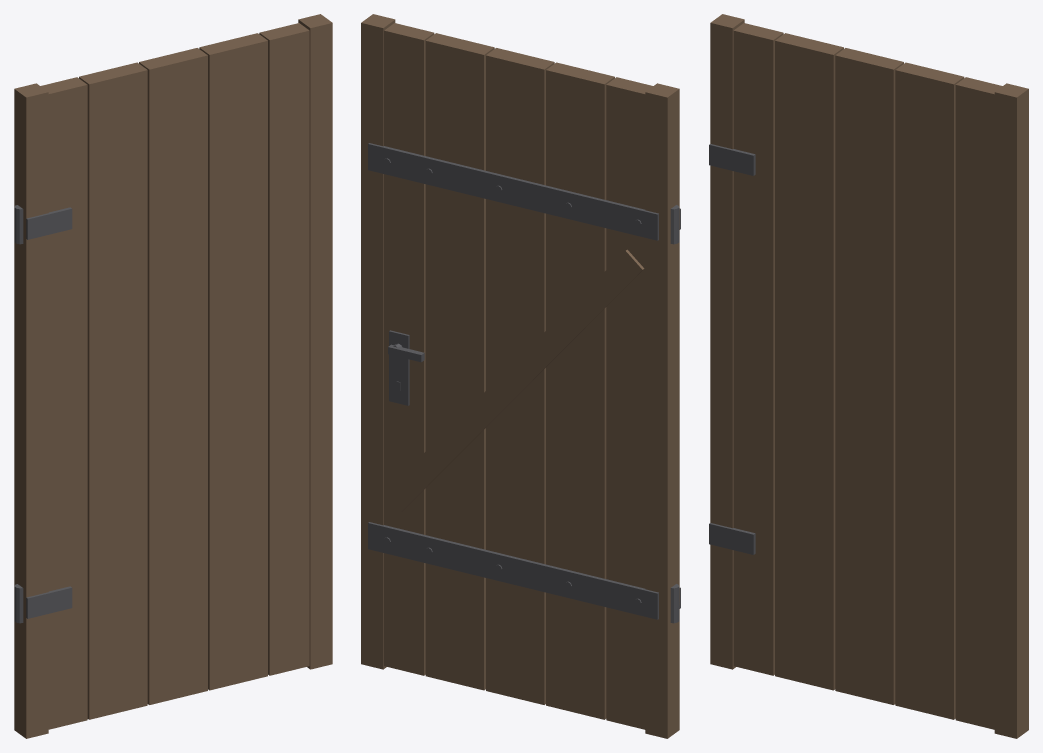
The model's file is door.glb.
3 views of the same model, side by side, from view 1: azimuth 30°, elevation 25°; view 2: azimuth 150°, elevation 25°; view 3: azimuth 330°, elevation 25° (orthographic).
Visible parts, largest first — view 1: Door; view 2: Door; view 3: Door.
Part boxes in pixels (box(x1,y1,x2,y2)): Door: box(14, 14, 332, 738); Door: box(361, 14, 680, 738); Door: box(709, 14, 1028, 738).
Bounding box in the file's own units: 1.12 × 2.2 × 0.124.
